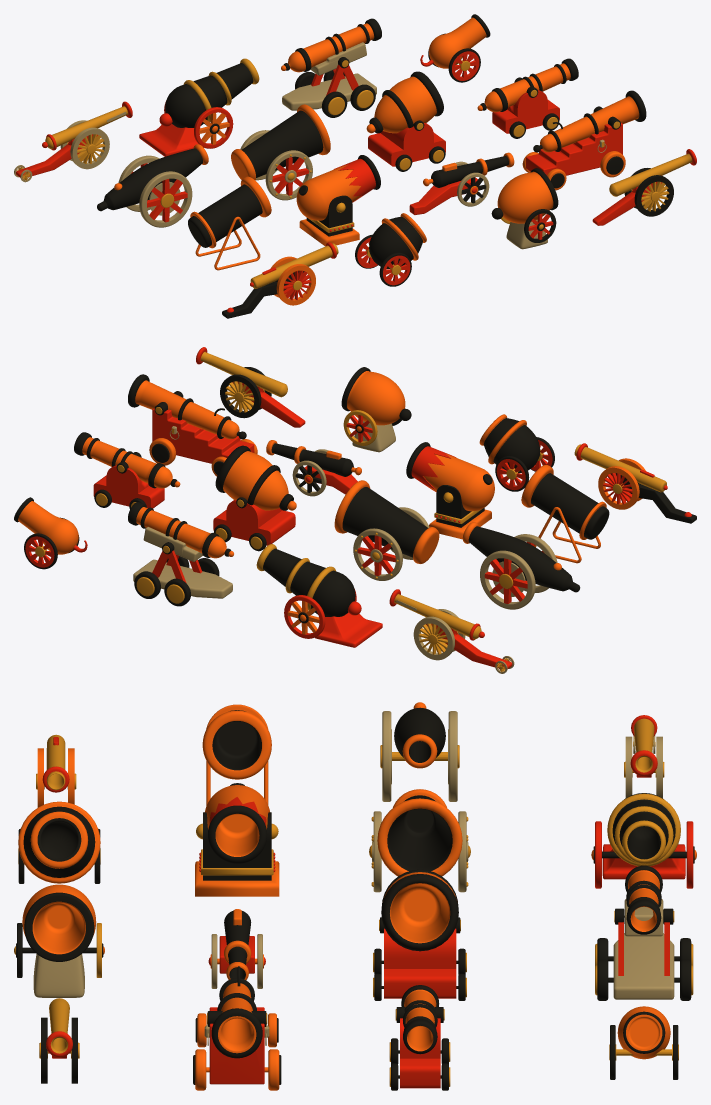
3 views of the same model, one above another, from view 1: azimuth 30°, elevation 25°; view 2: azimuth 150°, elevation 25°; view 3: azimuth 270°, elevation 25° (orthographic). The views are drawn at different scales.
Visible parts, largest first — view 1: Sphere032, Cylinder064, Box005, Line023, Line022, Sphere071, Sphere019, Box020, Sphere080, Cylinder028, Cylinder011, Box027 (+41 smaller); view 2: Sphere032, Cylinder064, Line023, Line022, Box005, Sphere071, Sphere019, Sphere080, Box020, Cylinder028, Cylinder011, Box027 (+40 smaller); view 3: Box020, Group122, Box004, Cylinder064, Sphere071, Cylinder011, Sphere019, Sphere080, Group015, Group076, Group085, Group123 (+26 smaller).
Part boxes in pixels (bbox=[...]): Sphere032: bbox=[165, 63, 253, 127]; Cylinder064: bbox=[242, 110, 323, 177]; Box005: bbox=[526, 123, 622, 175]; Line023: bbox=[188, 184, 262, 247]; Line022: bbox=[97, 148, 202, 211]; Sphere071: bbox=[374, 76, 436, 133]; Sphere019: bbox=[497, 171, 553, 223]; Box020: bbox=[368, 123, 445, 166]; Sphere080: bbox=[296, 165, 360, 220]; Cylinder028: bbox=[540, 96, 639, 152]; Cylinder011: bbox=[369, 216, 422, 268]; Box027: bbox=[492, 90, 559, 133]; Sphere032: bbox=[263, 548, 355, 616]; Cylinder064: bbox=[342, 487, 428, 557]; Line023: bbox=[531, 473, 609, 539]; Line022: bbox=[468, 526, 580, 592]; Box005: bbox=[152, 408, 254, 463]; Sphere071: bbox=[223, 451, 288, 510]; Sphere019: bbox=[347, 371, 405, 425]; Sphere080: bbox=[423, 453, 494, 511]; Box020: bbox=[213, 500, 295, 545]; Cylinder028: bbox=[135, 380, 239, 439]; Cylinder011: bbox=[483, 418, 540, 473]; Box027: bbox=[93, 465, 164, 508]; Box020: bbox=[384, 928, 456, 998]; Group122: bbox=[195, 805, 279, 896]; Box004: bbox=[613, 933, 674, 999]; Cylinder064: bbox=[387, 795, 452, 871]; Sphere071: bbox=[384, 872, 455, 943]; Cylinder011: bbox=[23, 806, 95, 877]; Sphere019: bbox=[22, 884, 96, 954]; Sphere080: bbox=[205, 785, 269, 856]; Group015: bbox=[18, 801, 100, 883]; Group076: bbox=[607, 793, 680, 866]; Group085: bbox=[377, 789, 462, 876]; Group123: bbox=[202, 704, 271, 779].
Bounding box in the file's own units: 316 × 49.64 × 247.
